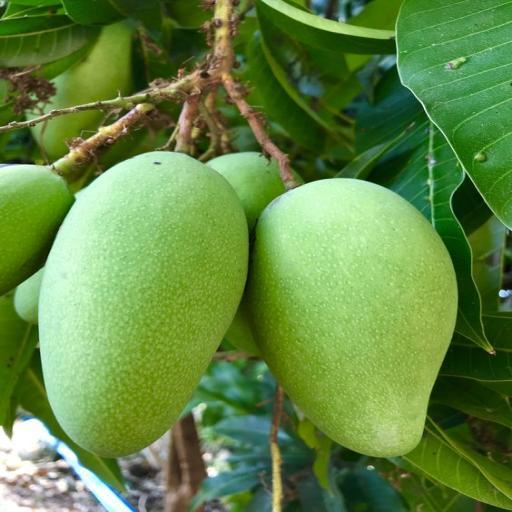mango: (40, 152, 247, 456), (248, 180, 457, 456)
